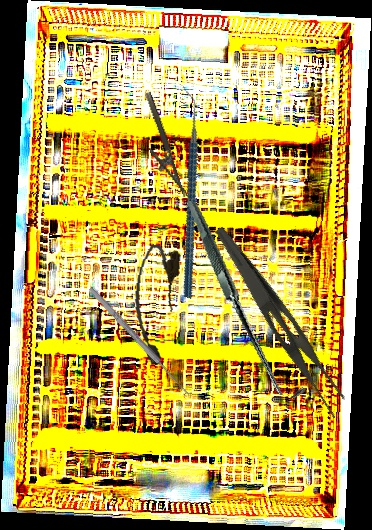Cannula: (126, 242, 183, 367)
Chopper: (112, 85, 262, 300)
Dressing Forceps: (195, 225, 359, 421)
Hook Surgical: (145, 200, 345, 401), (86, 282, 197, 398)
Needle Holder: (131, 91, 188, 203)
